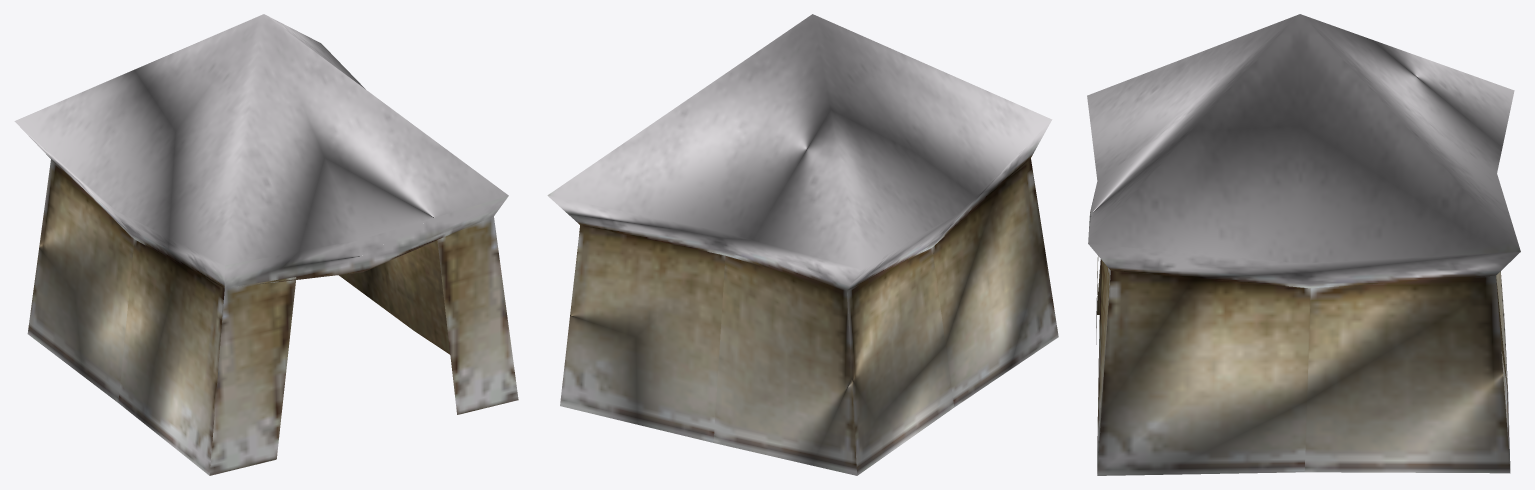
File: nsm-general_obj_04.glb
3 views of the same model, side by side, from view 1: azimuth 30°, elevation 25°; view 2: azimuth 150°, elevation 25°; view 3: azimuth 270°, elevation 25° (orthographic). The views are drawn at different scales.
Parts seen in each view (by area): view 1: Mesh01; view 2: Mesh01; view 3: Mesh01.
Part boxes in pixels (left/top/right/bottom): Mesh01: left=14, top=14, right=518, bottom=475; Mesh01: left=547, top=14, right=1058, bottom=475; Mesh01: left=1087, top=14, right=1520, bottom=475.
Size of the model in its own units: 4.71 by 5.17 by 5.35.
Materials: 1 (1 with a texture image).
